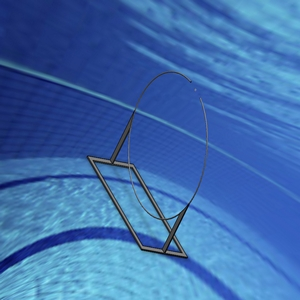circle: (87, 68, 213, 258)
